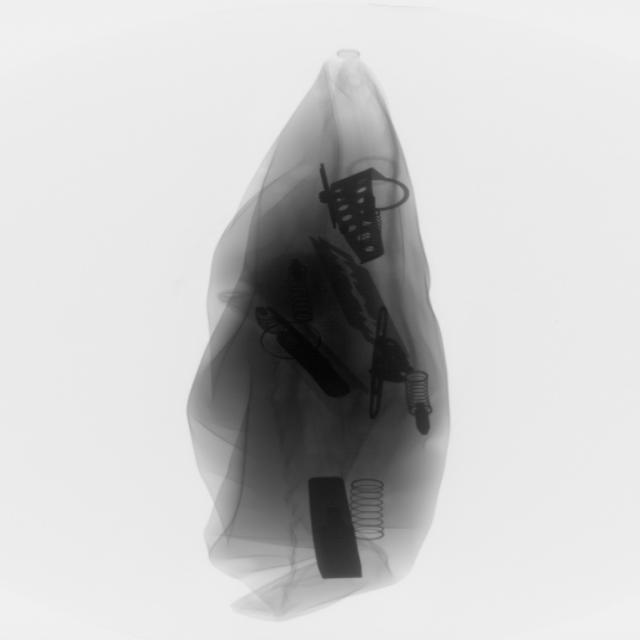BLADE: (311, 229, 396, 358)
GUN: (252, 316, 345, 408)
